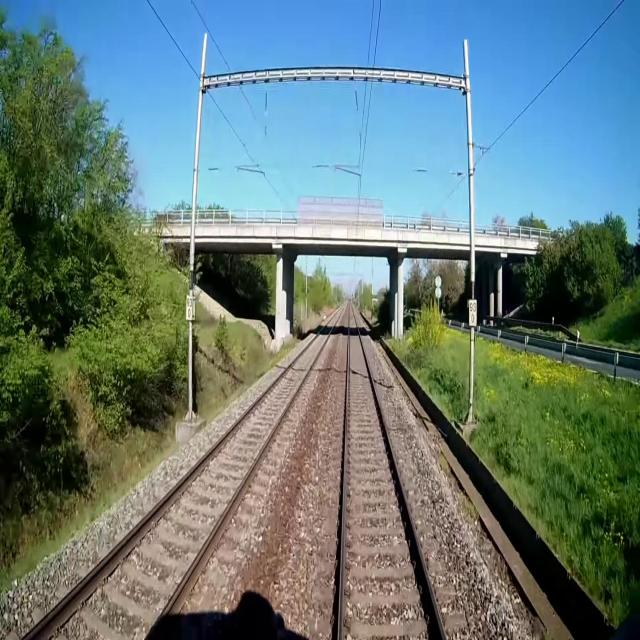rail-track: (29, 311, 339, 639), (343, 305, 442, 639)
